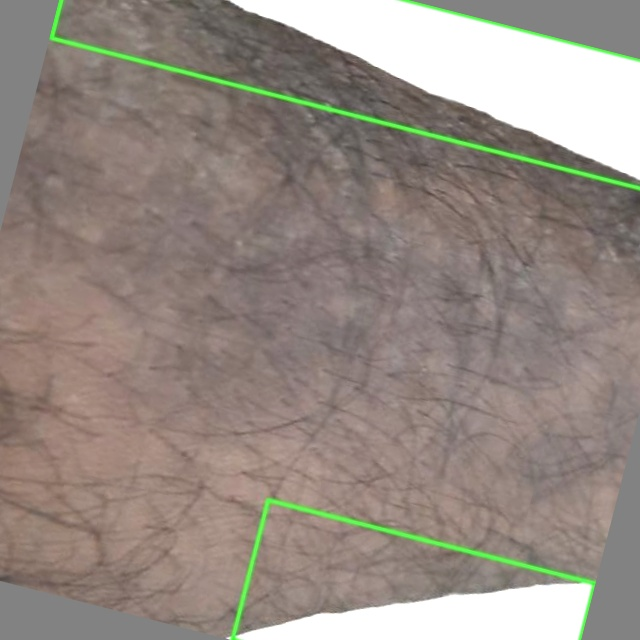Contact Dermatitis: (50, 0, 639, 189), (232, 500, 594, 639)
